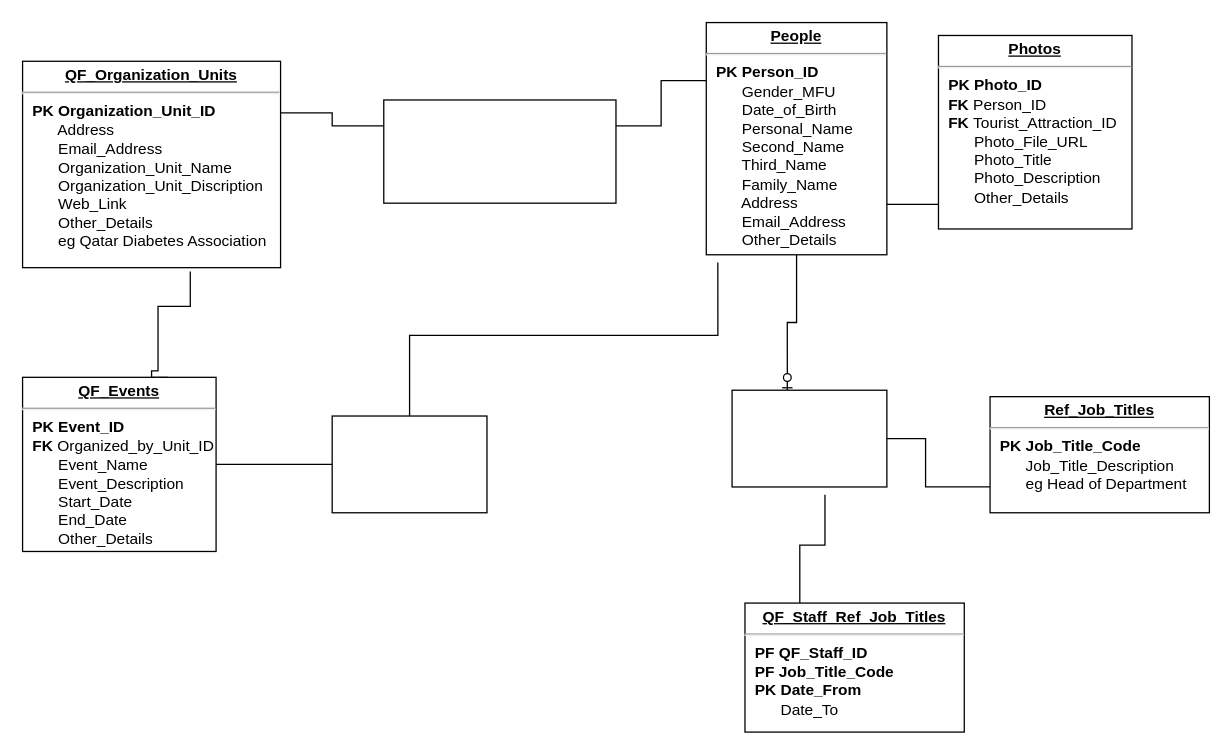
The diagram is 1232 pixels wide and 755 high, and some of its shapes have lost their labels. The shapes that lost their labels are listed below. From the top down, each one's centre as x and y in pixels, then its label:
At [499,151]: "People_in_Organization_Units PF Person_ID PF Organization_Unit_ID".
At [809,438]: "QF_Staff PF QF_Staff_ID Other_Details".
At [409,464]: "People_in_Events PF Event_ID PF Person_ID".
